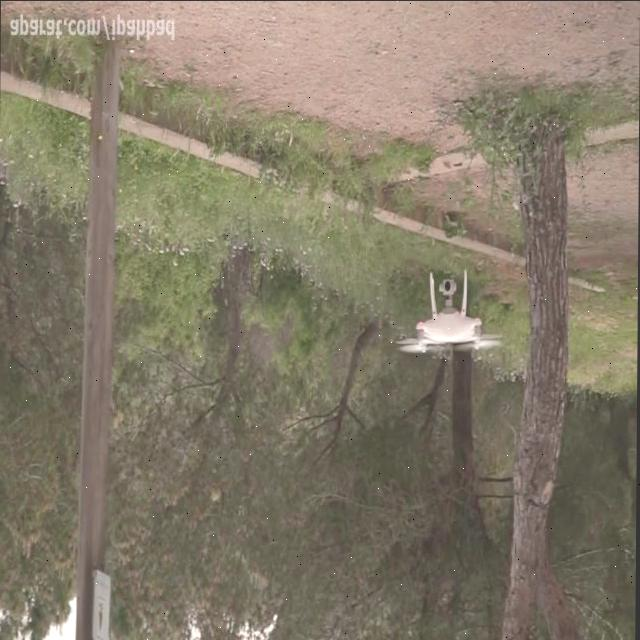drone: (392, 264, 504, 358)
